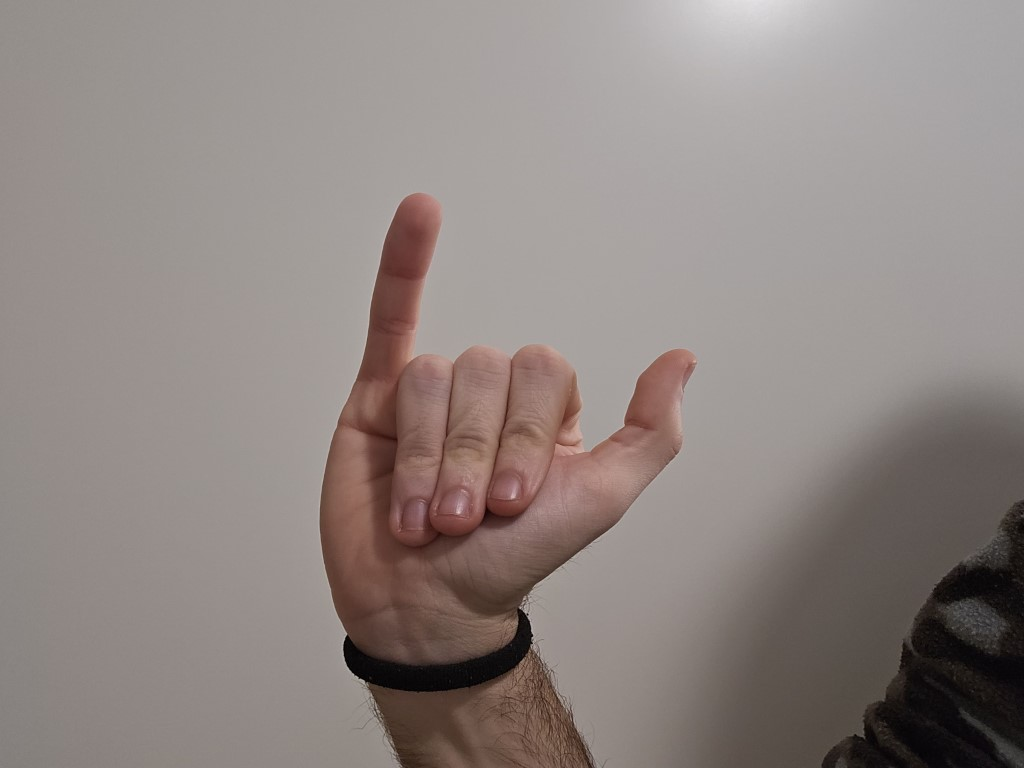y: (259, 168, 720, 651)
